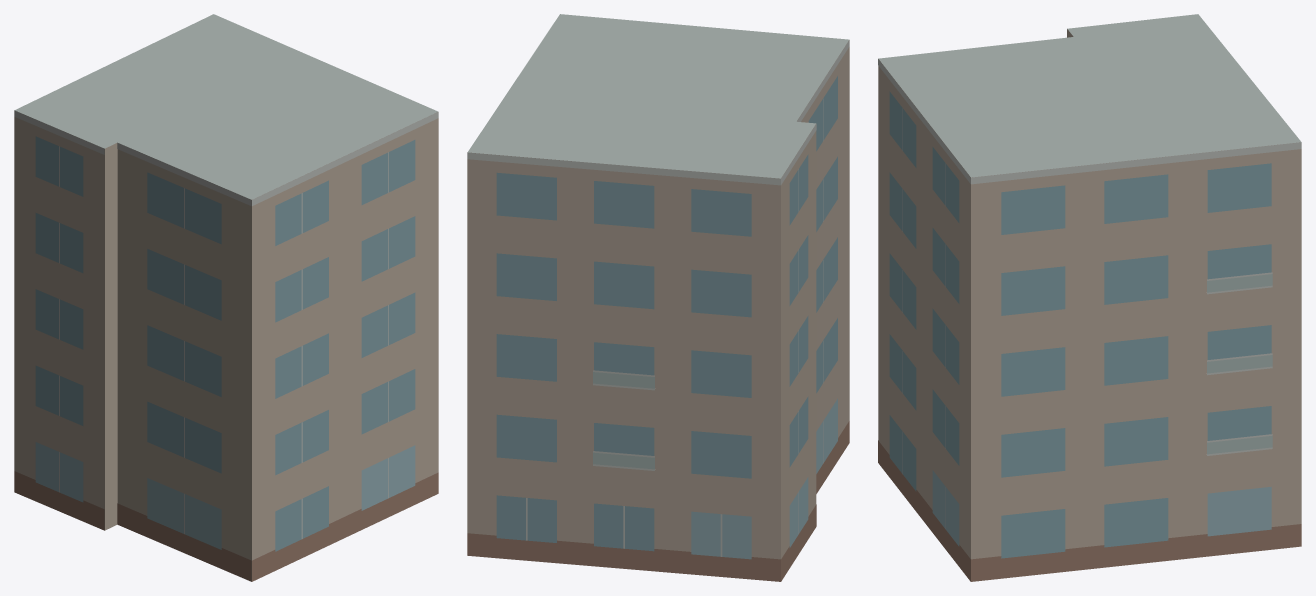
The model's file is survey-upis-32925691.glb.
3 views of the same model, side by side, from view 1: azimuth 30°, elevation 25°; view 2: azimuth 150°, elevation 25°; view 3: azimuth 270°, elevation 25° (orthographic). The views are drawn at different scales.
Parts seen in each view (by area): view 1: survey-upis-32925691.tmp; view 2: survey-upis-32925691.tmp; view 3: survey-upis-32925691.tmp.
Boxes of the visible parts, bbox=[...] form: survey-upis-32925691.tmp: bbox=[14, 14, 438, 581]; survey-upis-32925691.tmp: bbox=[467, 14, 849, 581]; survey-upis-32925691.tmp: bbox=[878, 14, 1301, 581].
Size of the model in its own units: 12.5 by 14.4 by 13.68.
